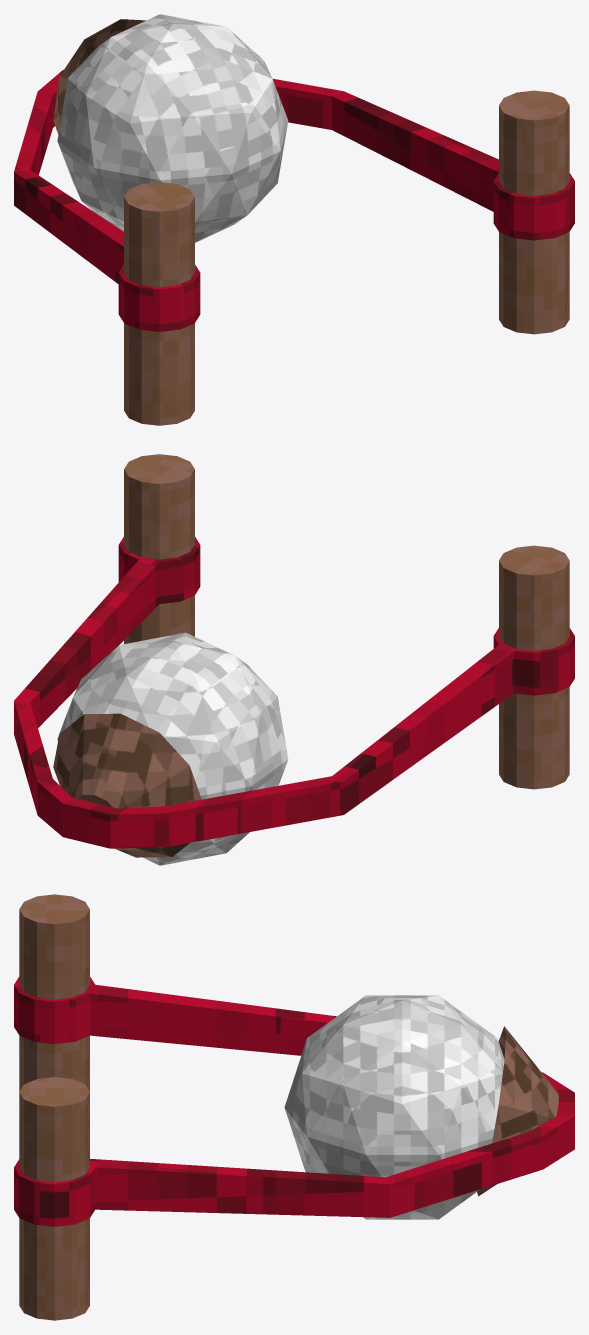
The model's file is BallSling.fbx.
3 views of the same model, one above another, from view 1: azimuth 30°, elevation 25°; view 2: azimuth 150°, elevation 25°; view 3: azimuth 270°, elevation 25° (orthographic).
Visible parts, largest first — view 1: ball, rodholders, rubber, ballholder; view 2: rubber, ball, rodholders, ballholder; view 3: rubber, ball, rodholders, ballholder.
Part boxes in pixels (x1,y1,x2,y2): ball: (57,14,288,242); rodholders: (124,90,569,425); rubber: (14,70,574,331); ballholder: (53,19,145,134); rubber: (14,537,574,848); ball: (57,632,288,865); rodholders: (124,454,569,789); ballholder: (53,713,201,857); rubber: (14,977,574,1226); ball: (284,995,504,1219); rodholders: (19,894,89,1320); ballholder: (477,1026,558,1196).
Size of the model in its own units: 436 by 200 by 476.
4 materials, 4 textured.
